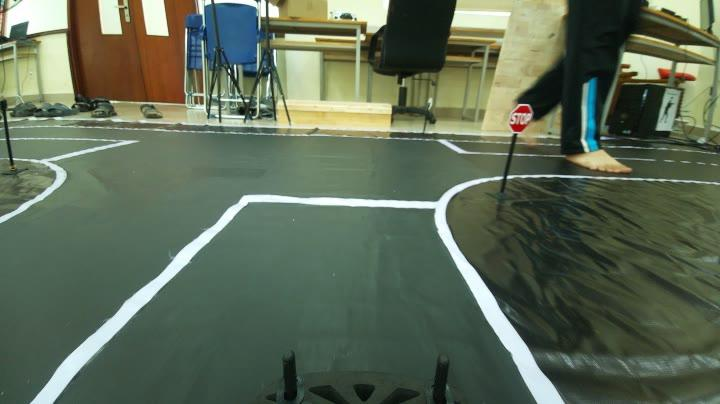stop: (501, 102, 534, 131)
